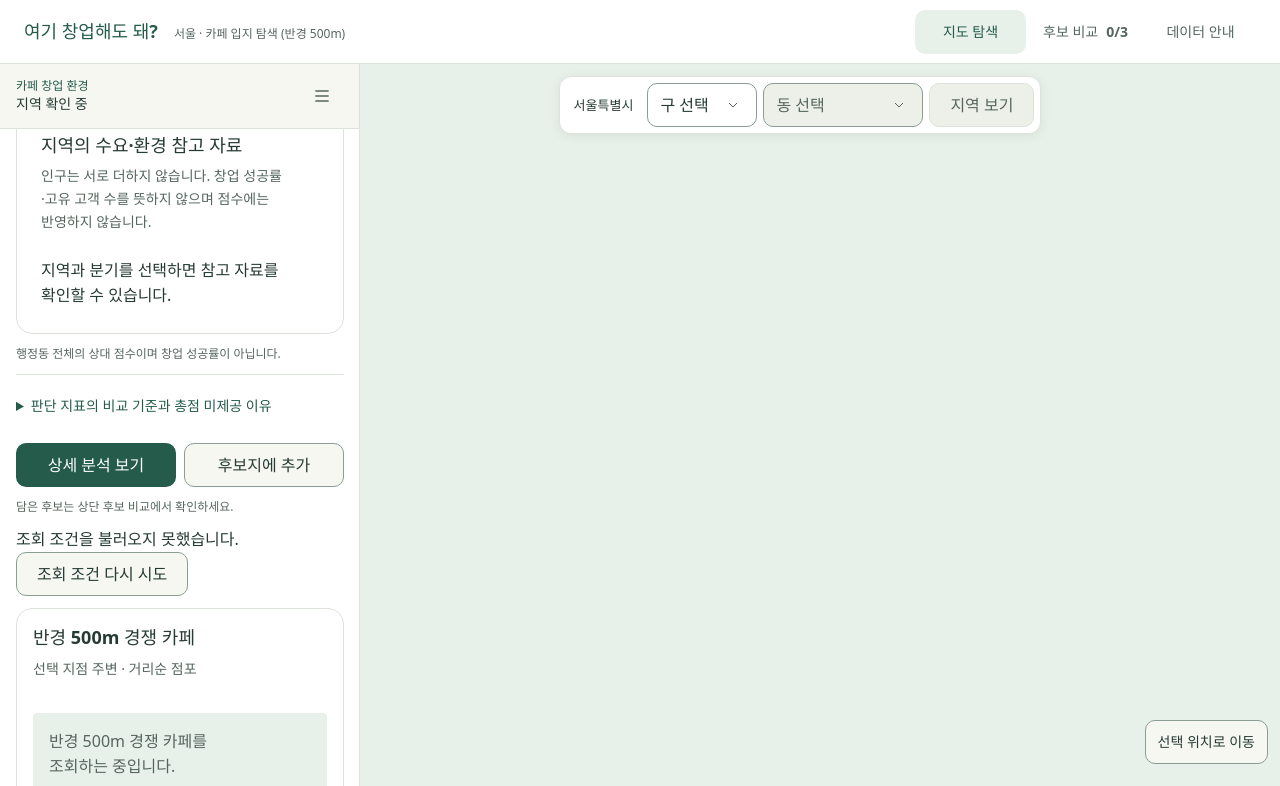
Scenario: keeps nearby point results usable even when statistics lookups fail
(page scrolled)
Click the button "상세 분석 보기". click: (96, 465)
box: [16, 443, 176, 487]
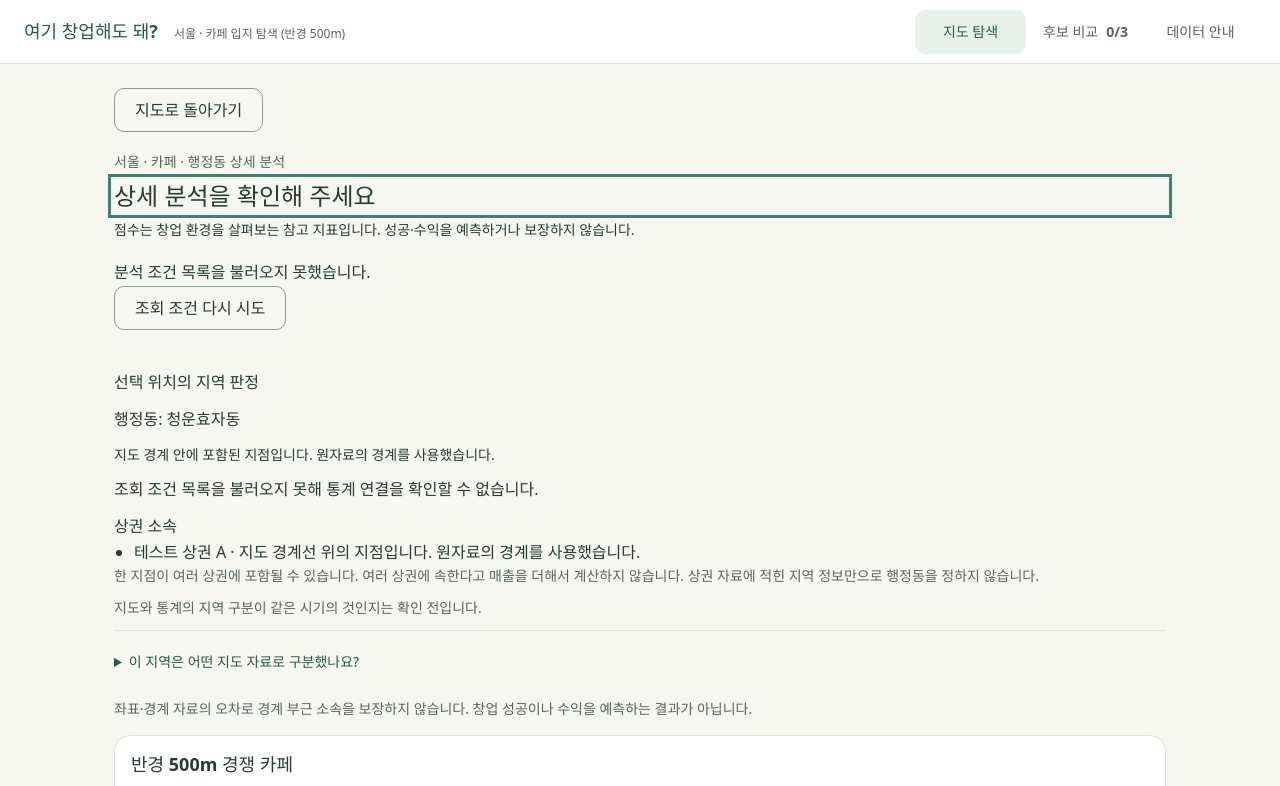
Expected: the button "조회 조건 다시 시도" is enabled, [114, 286, 286, 330]
Result: the text "분석 조건 목록을 불러오지 못했습니다." is shown at [114, 261, 370, 283]
